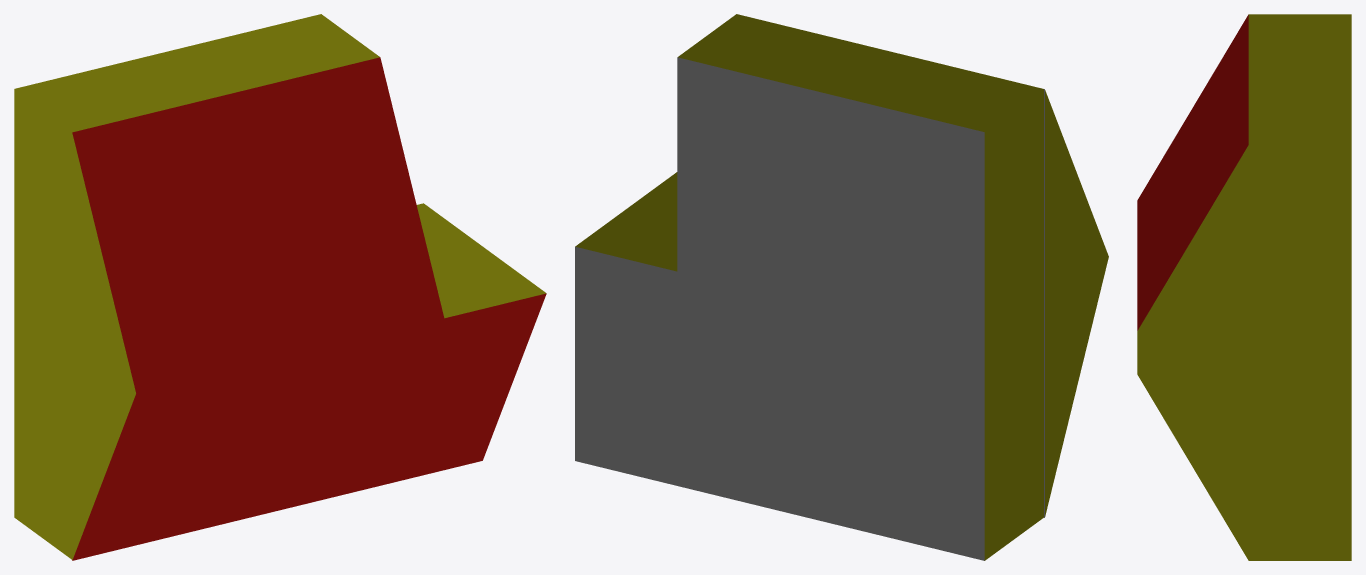
Rendered from idf.obj.
3 renders of one model, left to right at view 1: azimuth 30°, elevation 25°; view 2: azimuth 150°, elevation 25°; view 3: azimuth 270°, elevation 25°, orthographic. The views are drawn at different scales.
Bounding box in the file's own units: 12.22 × 12.19 × 6.35.
